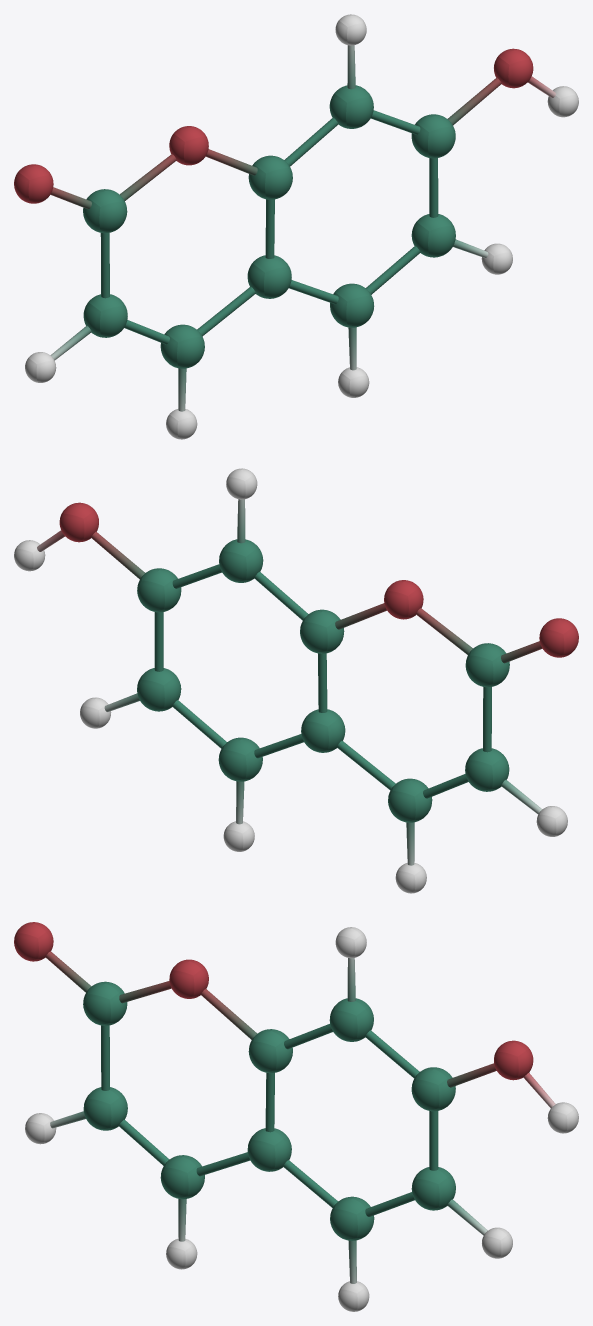
The model's file is Umbelliferone.fbx.
3 renders of one model, top to bottom at view 1: azimuth 30°, elevation 25°; view 2: azimuth 150°, elevation 25°; view 3: azimuth 330°, elevation 25°, orthographic.
Parts seen in each view (by area): view 1: curMeshHyperballExportedMesh; view 2: curMeshHyperballExportedMesh; view 3: curMeshHyperballExportedMesh.
Part boxes in pixels (bbox=[...]): curMeshHyperballExportedMesh: bbox=[14, 14, 578, 439]; curMeshHyperballExportedMesh: bbox=[14, 468, 578, 893]; curMeshHyperballExportedMesh: bbox=[14, 922, 578, 1311].
Bounding box in the file's own units: 8.26 × 5.37 × 0.5674.
